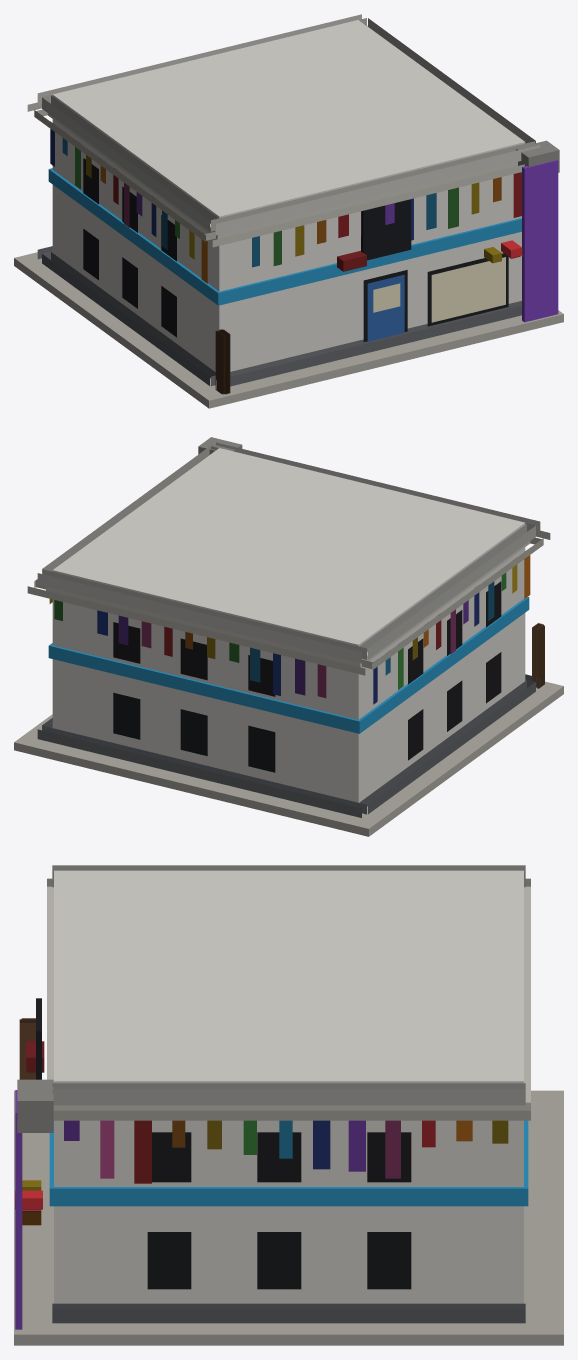
File: KaleidoChameleonSil.fbx
3 views of the same model, one above another, from view 1: azimuth 30°, elevation 25°; view 2: azimuth 150°, elevation 25°; view 3: azimuth 270°, elevation 25° (orthographic). The views are drawn at different scales.
Parts seen in each view (by area): view 1: PT_S_All; view 2: PT_S_All; view 3: PT_S_All.
Part boxes in pixels (x1=…): PT_S_All: x1=14, y1=14, x2=563, y2=408; PT_S_All: x1=14, y1=437, x2=563, y2=836; PT_S_All: x1=14, y1=865, x2=563, y2=1345.
Bounding box in the file's own units: 42.04 × 19.9 × 40.04.
